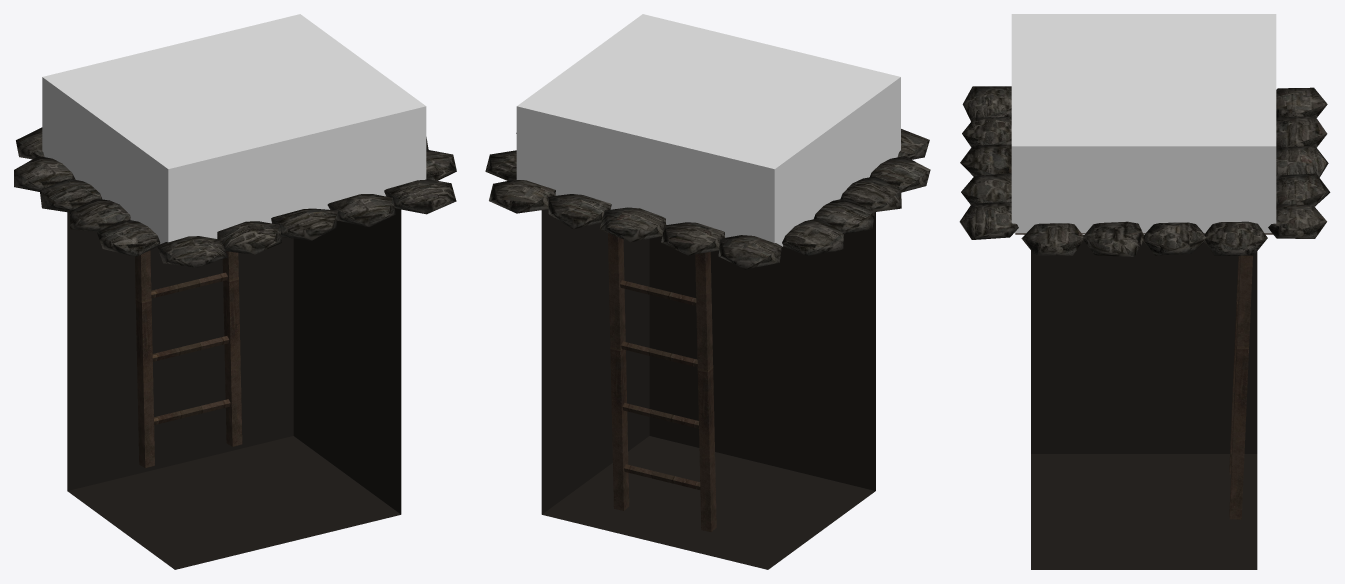
The model's file is trapdoor_ashen_coast_closed.glb.
3 views of the same model, side by side, from view 1: azimuth 30°, elevation 25°; view 2: azimuth 150°, elevation 25°; view 3: azimuth 270°, elevation 25° (orthographic). The views are drawn at different scales.
Visible parts, largest first — view 1: surround, col_click; view 2: surround, col_click; view 3: surround, col_click.
Part boxes in pixels (x1,y1,x2,y2): surround: [14, 127, 456, 569]; col_click: [42, 14, 426, 244]; surround: [485, 129, 930, 569]; col_click: [516, 14, 900, 246]; surround: [959, 86, 1330, 569]; col_click: [1011, 14, 1276, 233].
Size of the model in its own units: 1.8 by 1.98 by 1.54.
Materials: 5 (4 with a texture image).
